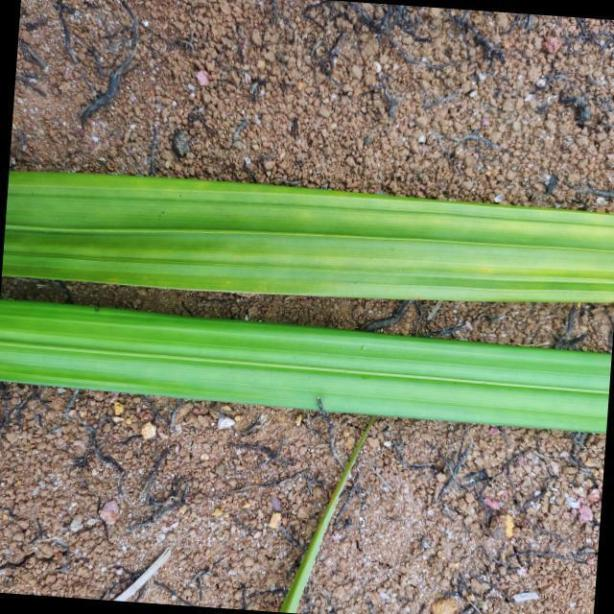nitrogen: (0, 298, 614, 438), (0, 165, 614, 297)
